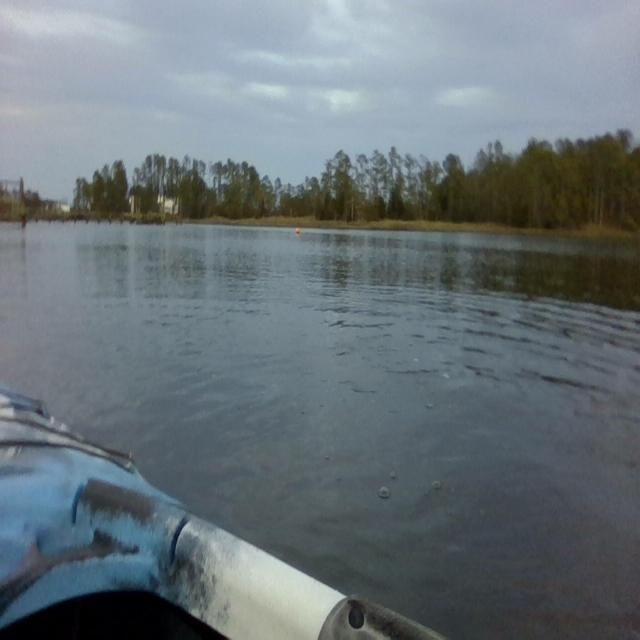Buoy: (294, 225, 302, 236)
